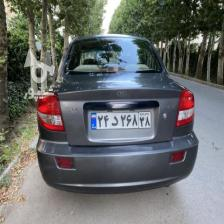plate: (90, 111, 151, 128)
